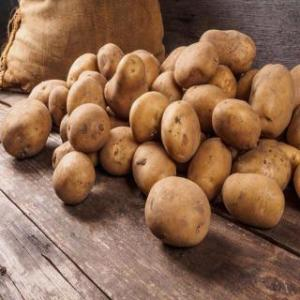potato: (144, 173, 210, 249), (221, 165, 289, 233), (4, 94, 54, 164), (196, 22, 258, 74), (128, 80, 173, 148), (49, 149, 100, 208), (173, 37, 225, 93), (212, 96, 264, 144), (160, 98, 200, 158), (64, 100, 112, 150)
